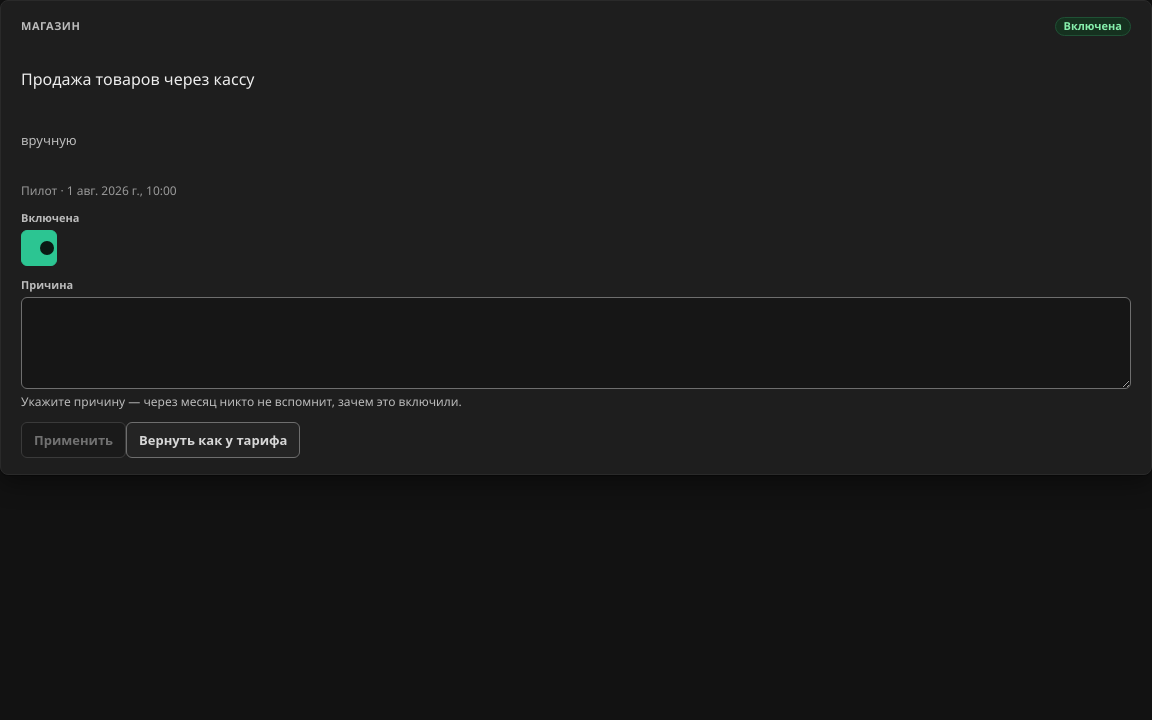
Test case: OrganizationFeaturesTab › снимает исключение и возвращает решение тарифу
Expected: the text "Магазин" is shown, [21,19,80,34]
Click the button "Вернуть как у тарифа" at (213, 440), box [126,422,300,458]
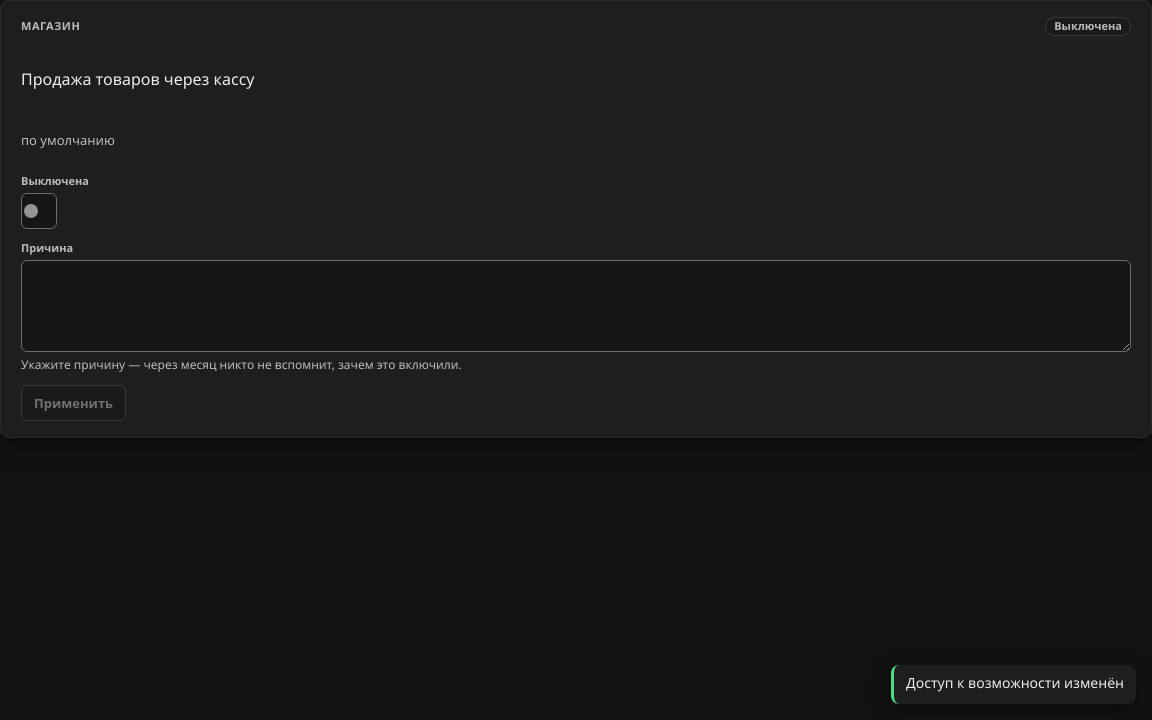
Result: the text "по умолчанию" is shown at [21,131,115,149]
